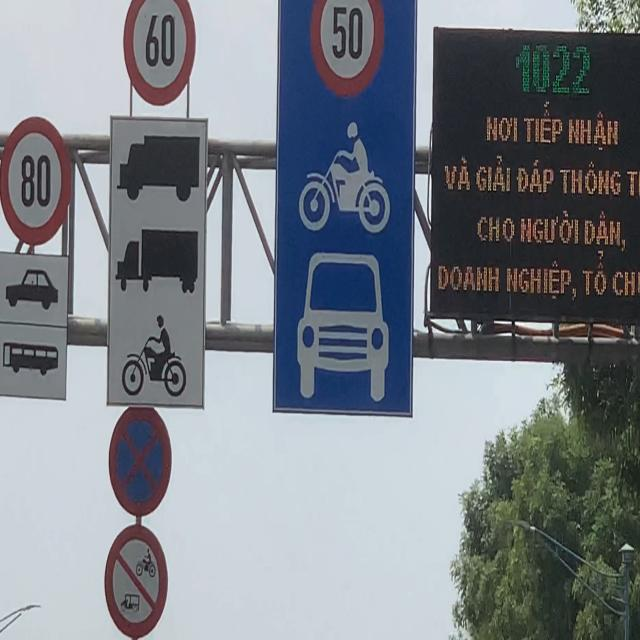Cam con lai: (104, 519, 168, 640)
Cam dung va do: (108, 404, 174, 517)
Toc do toi da: (0, 113, 73, 252), (120, 0, 197, 105), (304, 0, 382, 97)
